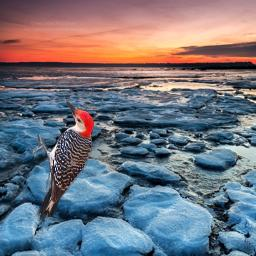Woodpecker: (30, 98, 94, 217)
